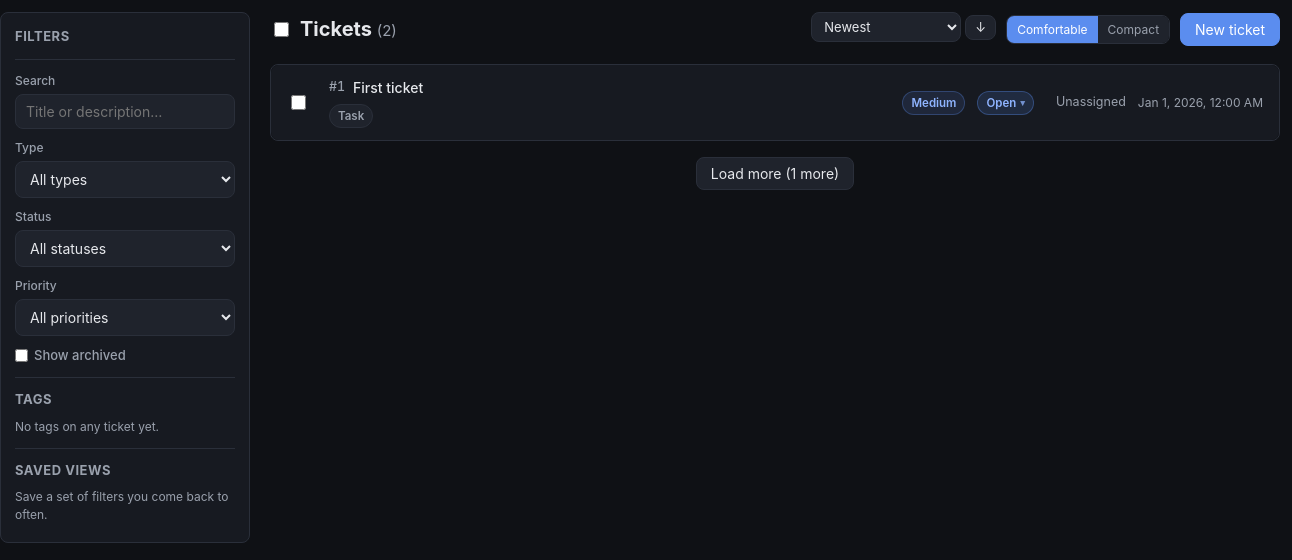
Test case: TicketList › appends the next page on Load more
Expected: the text "First ticket" is shown, [353,79,423,96]
Click the button "Load more (1 more)" at [775, 174], box [696,157,854,190]
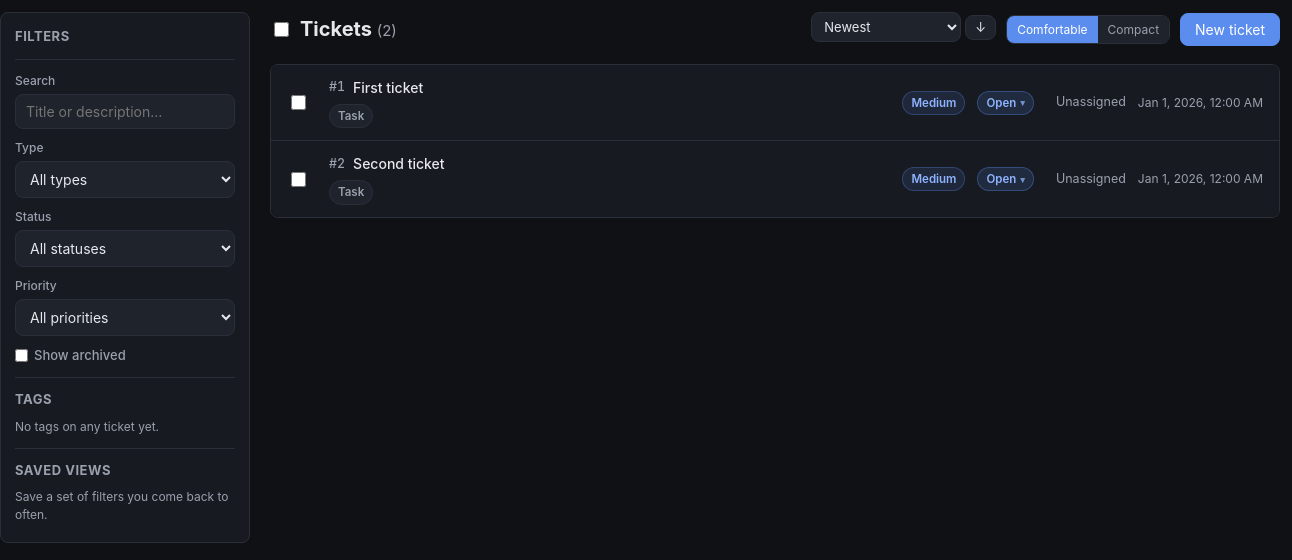
Expected: the text "Second ticket" is shown, [353,155,445,172]
